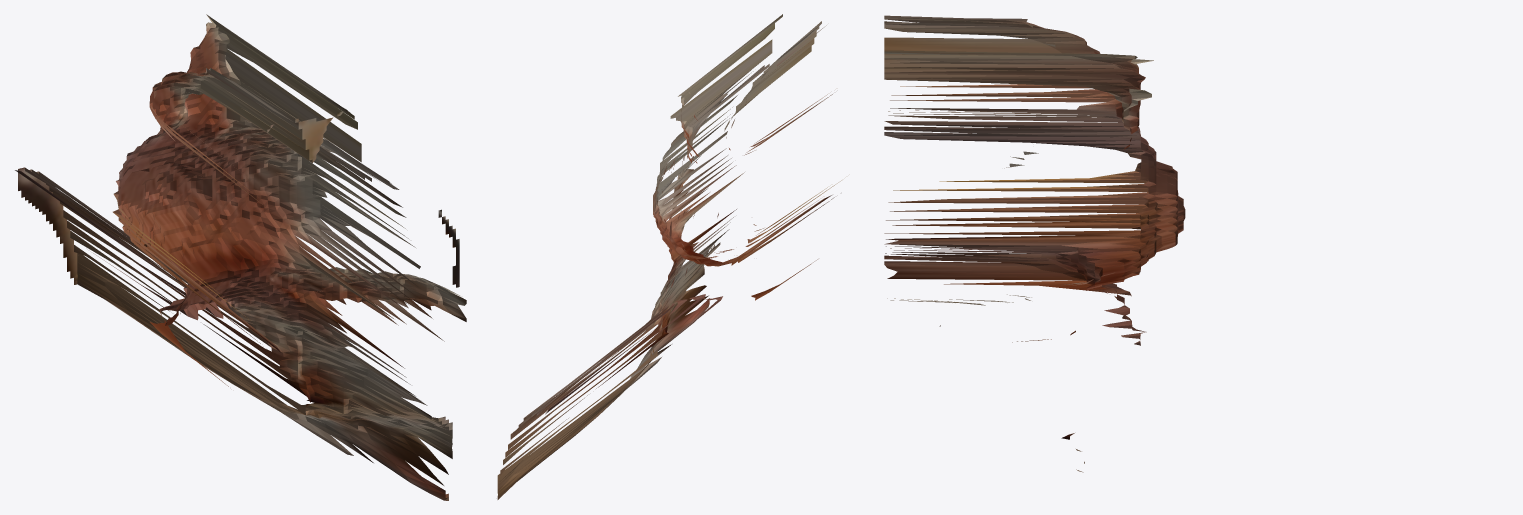
File: frame_00331.glb
3 views of the same model, side by side, from view 1: azimuth 30°, elevation 25°; view 2: azimuth 150°, elevation 25°; view 3: azimuth 270°, elevation 25° (orthographic). The views are drawn at different scales.
Visible parts, largest first — view 1: geometry_0; view 2: geometry_0; view 3: geometry_0.
Part boxes in pixels (bbox=[...]): geometry_0: bbox=[15, 14, 466, 500]; geometry_0: bbox=[497, 14, 841, 499]; geometry_0: bbox=[884, 15, 1185, 472].
Bounding box in the file's own units: 0.0614 × 0.1164 × 0.16.
1 material, 1 textured.
